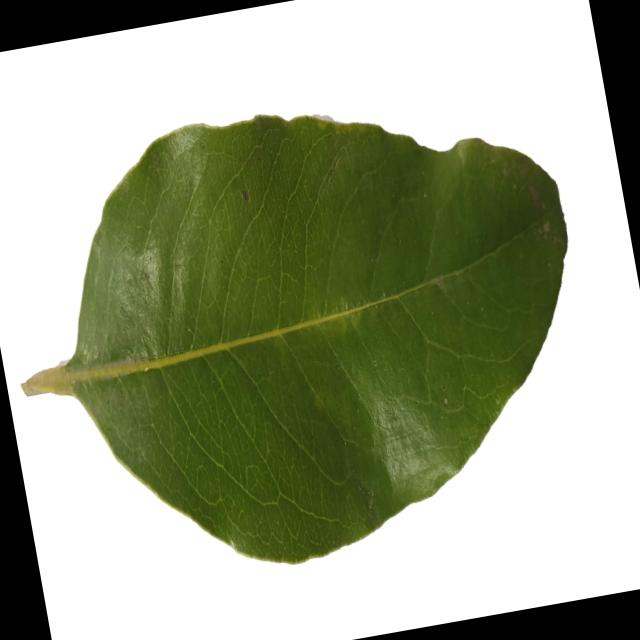Medicinal-Sandalwood: (0, 56, 616, 609)
